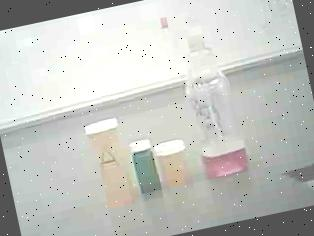Bottle A: (77, 110, 142, 214)
Bottle B: (152, 128, 198, 192)
Bottle C: (122, 128, 166, 201)
hazard: (158, 0, 263, 185)
